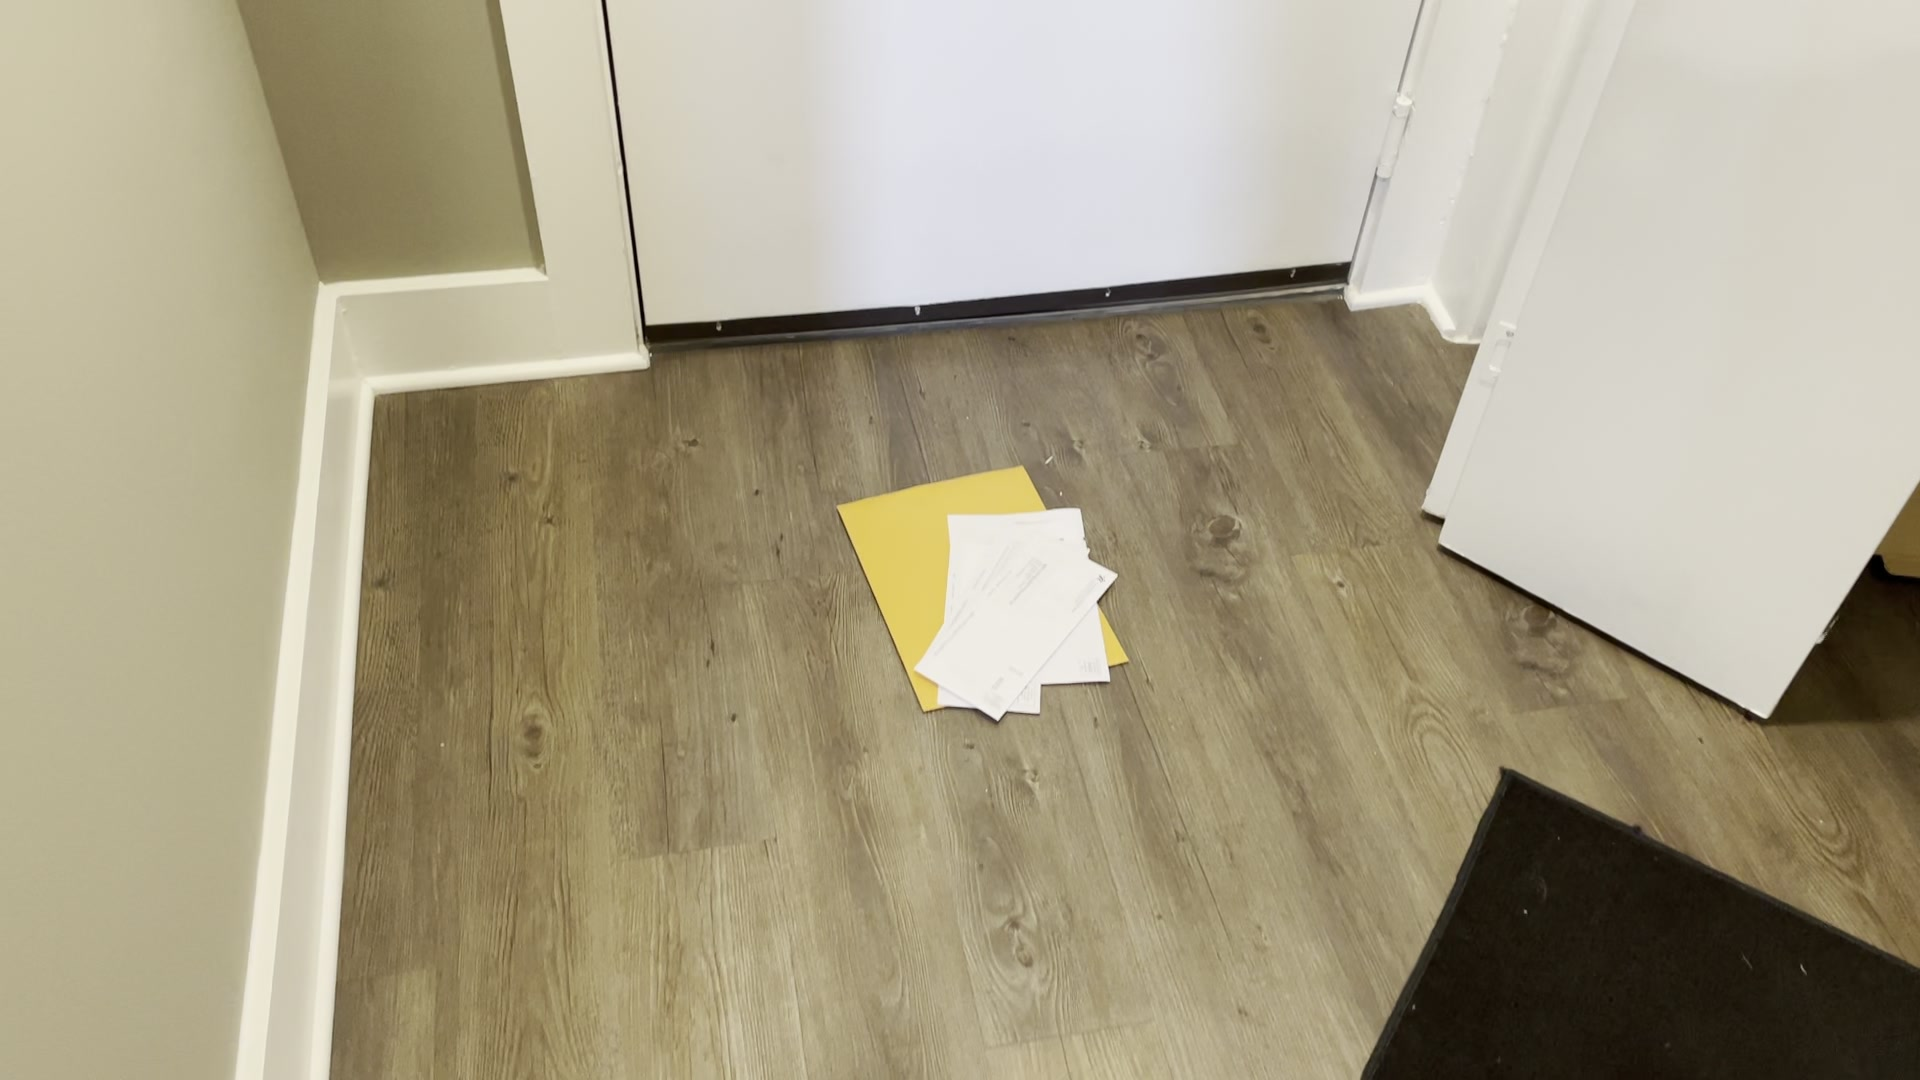envelope: (816, 458, 1145, 728)
